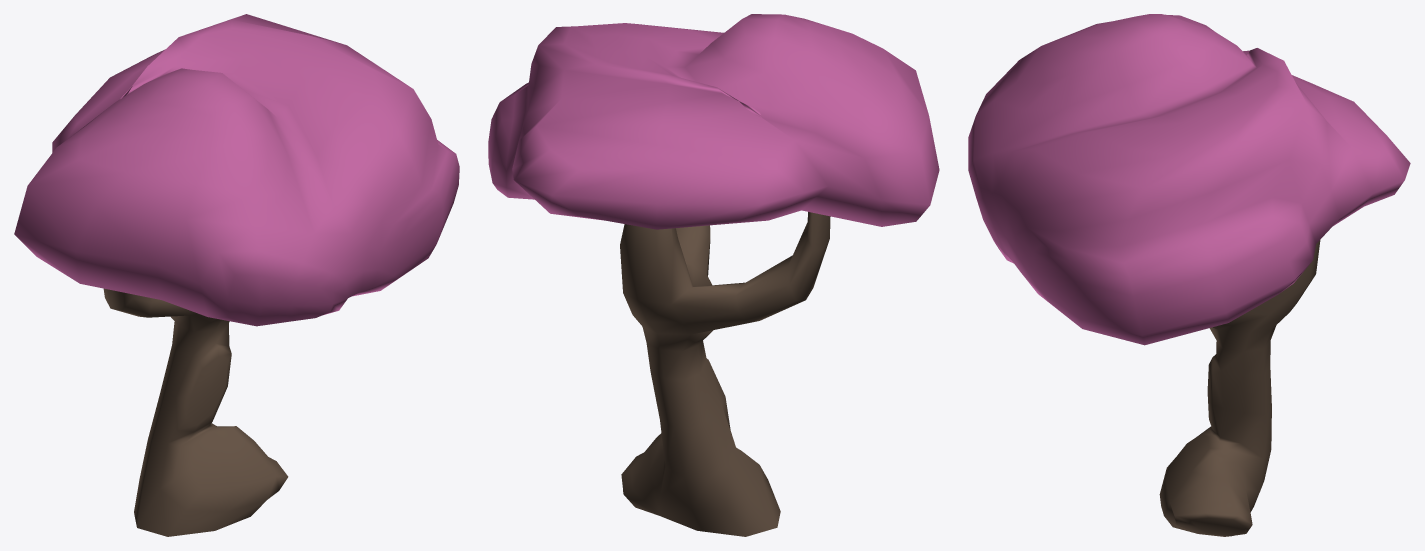
The model's file is SM_city_tree_D.fbx.
3 views of the same model, side by side, from view 1: azimuth 30°, elevation 25°; view 2: azimuth 150°, elevation 25°; view 3: azimuth 270°, elevation 25° (orthographic). The views are drawn at different scales.
Visible parts, largest first — view 1: SM_city_tree_D; view 2: SM_city_tree_D; view 3: SM_city_tree_D.
Part boxes in pixels (x1,y1,x2,y2): SM_city_tree_D: [14, 14, 459, 536]; SM_city_tree_D: [488, 14, 939, 536]; SM_city_tree_D: [968, 14, 1410, 536].
Bounding box in the file's own units: 493 × 511 × 434.
